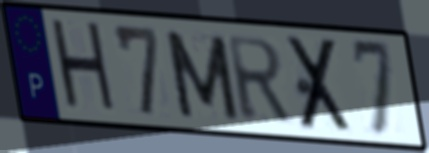7: (109, 22, 164, 119), (348, 36, 396, 141)
H: (47, 16, 121, 119)
M: (161, 27, 243, 123)
R: (223, 33, 295, 124)
X: (284, 34, 356, 134)
